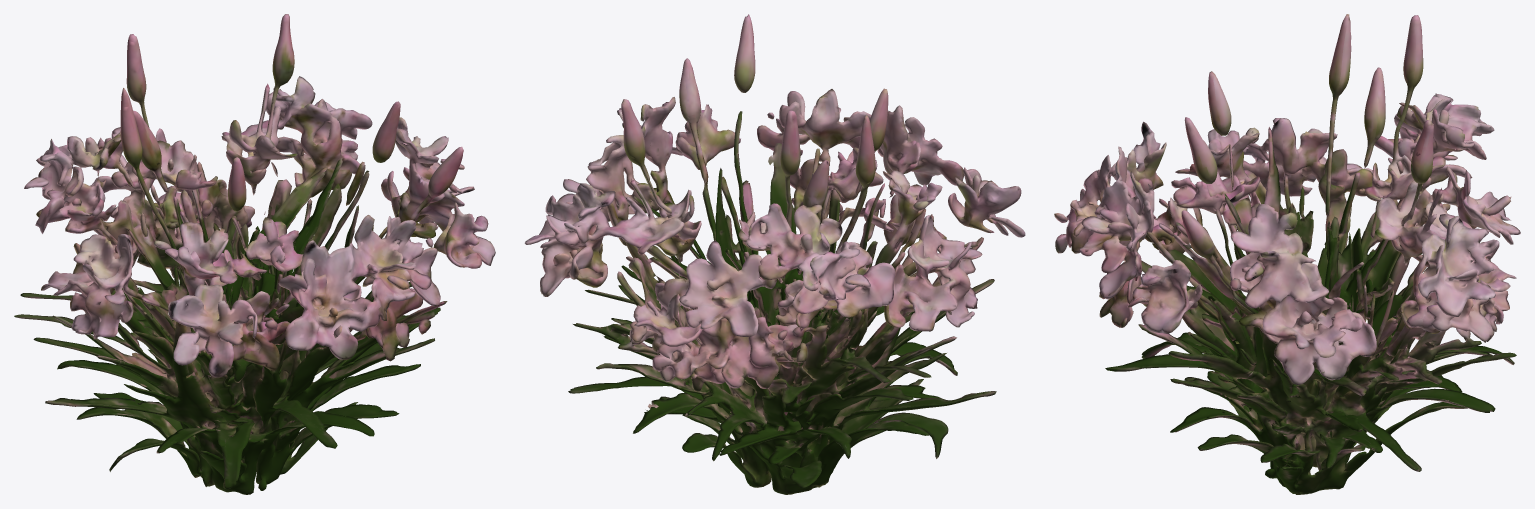
The model's file is flower2.fbx.
The picture shows the model from 3 angles, left to right: view 1: azimuth 30°, elevation 25°; view 2: azimuth 150°, elevation 25°; view 3: azimuth 270°, elevation 25°; orthographic projection. The views are drawn at different scales.
Parts seen in each view (by area): view 1: Mesh_0.002; view 2: Mesh_0.002; view 3: Mesh_0.002.
Part boxes in pixels (left/top/right/bottom): Mesh_0.002: left=14, top=14, right=495, bottom=494; Mesh_0.002: left=524, top=14, right=1025, bottom=494; Mesh_0.002: left=1054, top=14, right=1520, bottom=494.
Size of the model in its own units: 198 by 185 by 179.
1 material, 1 textured.
